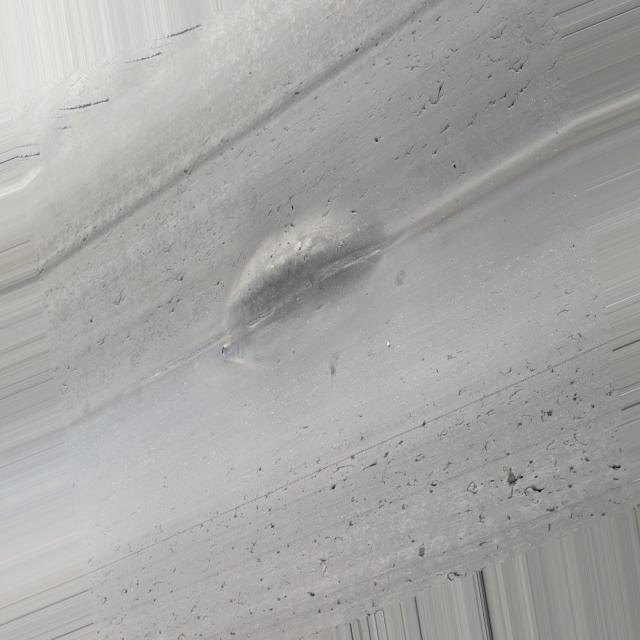impact damage: (223, 202, 388, 369)
